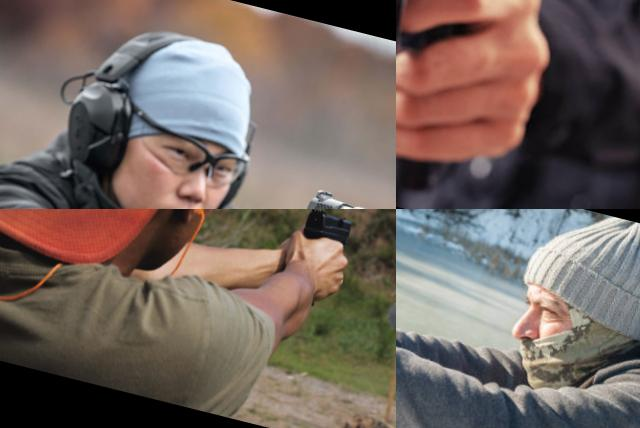handgun: (396, 0, 571, 209), (396, 213, 485, 328), (293, 209, 357, 268)
